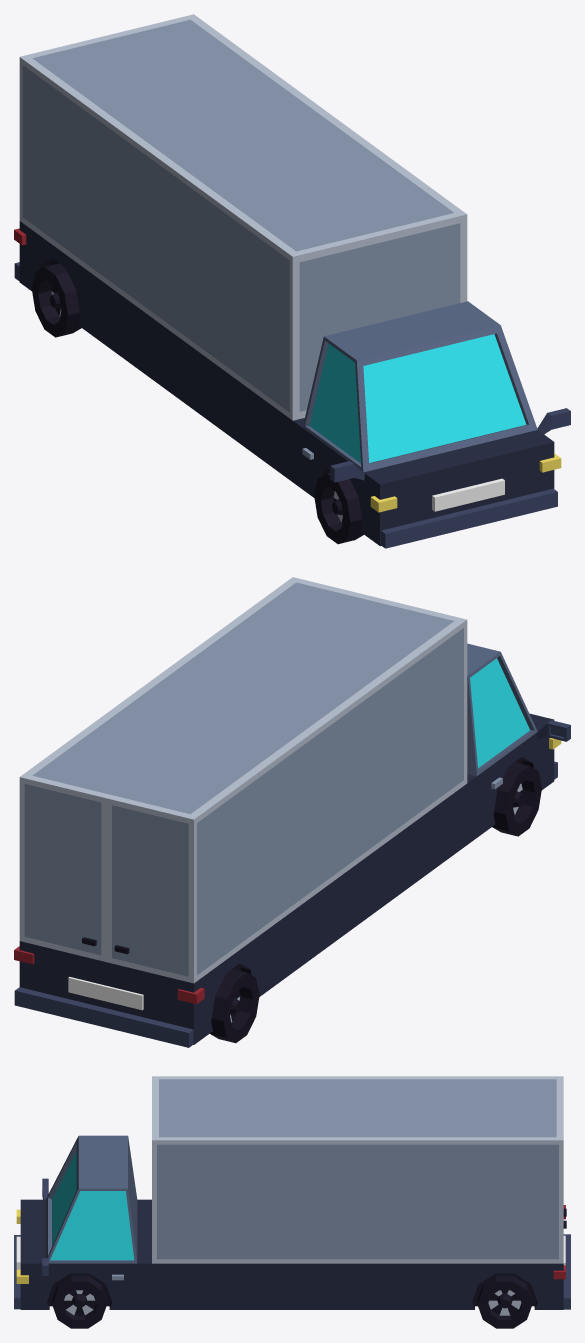
Rendered from car7.fbx.
The picture shows the model from 3 angles, top to bottom: view 1: azimuth 30°, elevation 25°; view 2: azimuth 150°, elevation 25°; view 3: azimuth 270°, elevation 25°; orthographic projection. The views are drawn at different scales.
Parts seen in each view (by area): view 1: car-grey-truck; view 2: car-grey-truck; view 3: car-grey-truck.
Part boxes in pixels (x1,y1,x2,y2): car-grey-truck: (14,14,570,548); car-grey-truck: (14,577,570,1047); car-grey-truck: (14,1076,570,1328).
Size of the model in its own units: 2.71 by 2.7 by 7.34.
